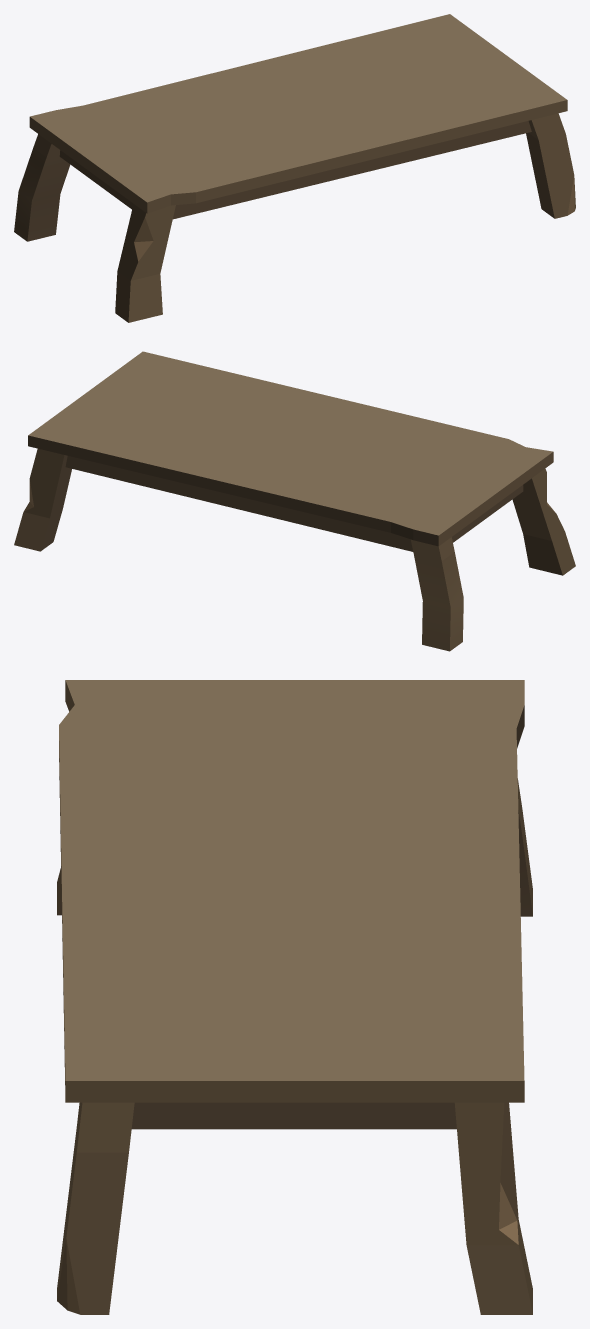
Rendered from SM_Prop_Table_03.fbx.
3 renders of one model, top to bottom at view 1: azimuth 30°, elevation 25°; view 2: azimuth 150°, elevation 25°; view 3: azimuth 270°, elevation 25°, orthographic. The views are drawn at different scales.
Parts seen in each view (by area): view 1: SM_Prop_Table_03; view 2: SM_Prop_Table_03; view 3: SM_Prop_Table_03.
Boxes of the visible parts, left/top/right/bottom form: SM_Prop_Table_03: left=14, top=14, right=575, bottom=322; SM_Prop_Table_03: left=14, top=351, right=575, bottom=651; SM_Prop_Table_03: left=57, top=680, right=532, bottom=1314.
Bounding box in the file's own units: 0.02 × 0.0048 × 0.00933.
1 material, 1 textured.
